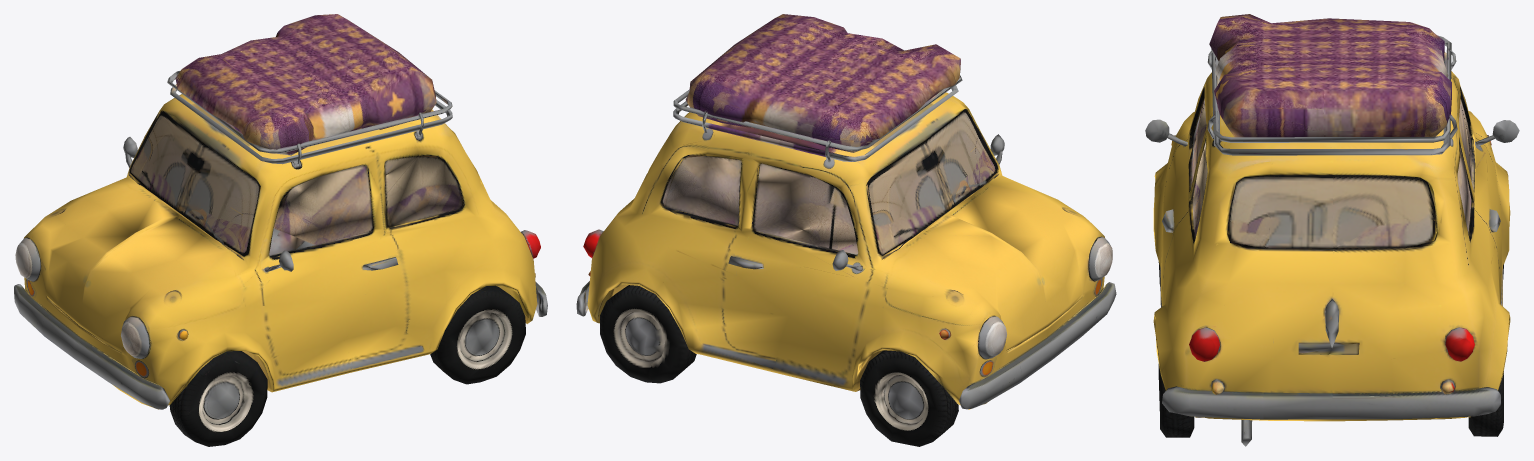
The model's file is yellow-car.glb.
3 views of the same model, side by side, from view 1: azimuth 30°, elevation 25°; view 2: azimuth 150°, elevation 25°; view 3: azimuth 270°, elevation 25° (orthographic). The views are drawn at different scales.
Visible parts, largest first — view 1: Mesh_0.001; view 2: Mesh_0.001; view 3: Mesh_0.001.
Part boxes in pixels (x1=…): Mesh_0.001: x1=14, y1=14, x2=547, y2=446; Mesh_0.001: x1=576, y1=14, x2=1116, y2=446; Mesh_0.001: x1=1145, y1=14, x2=1519, y2=446.
Size of the model in its own units: 0.1766 by 0.12 by 0.1241.
1 material, 1 textured.
